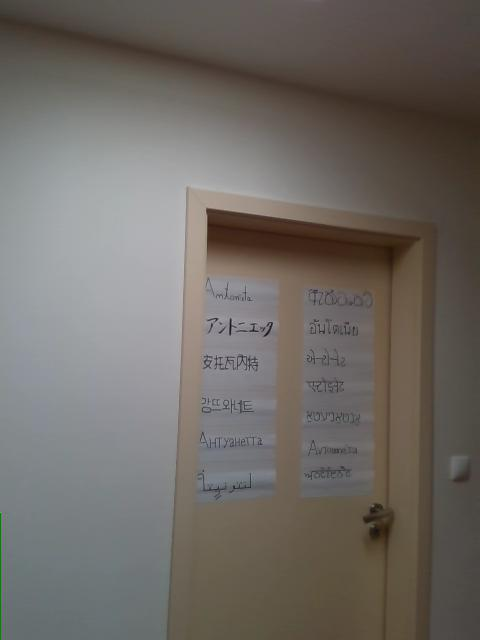door: (188, 225, 396, 639)
